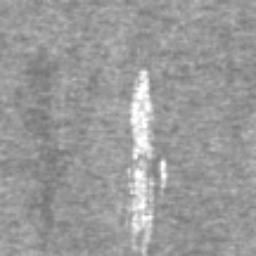White rust: (126, 70, 155, 256), (160, 159, 168, 188)
